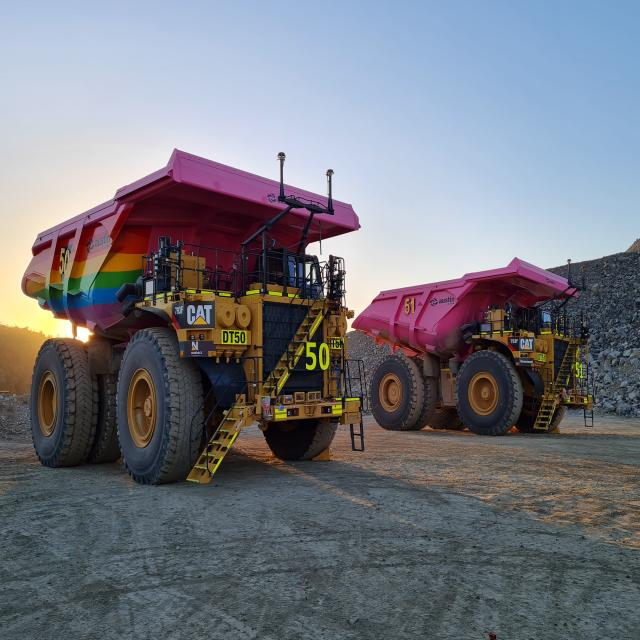dump_truck: (23, 150, 383, 488), (376, 252, 604, 451)
